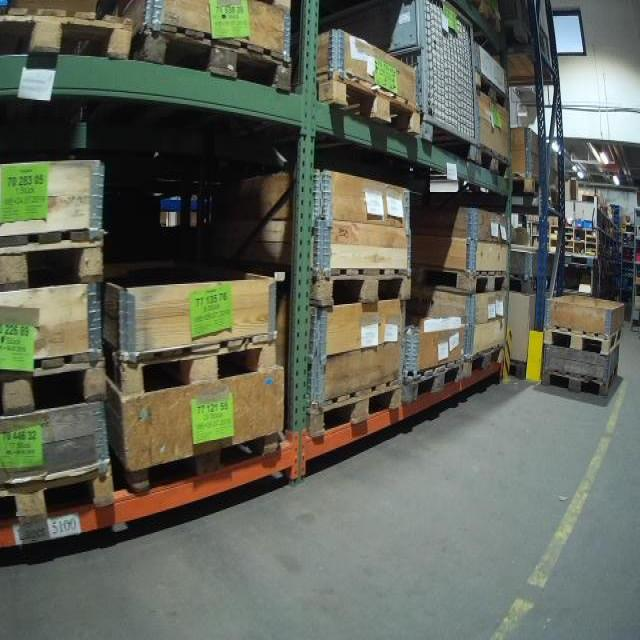pallet: (119, 423, 283, 497), (107, 332, 279, 400), (142, 21, 297, 96), (0, 454, 118, 527), (313, 64, 422, 143), (2, 7, 136, 68), (1, 350, 108, 419), (3, 227, 108, 296), (307, 371, 407, 442), (287, 269, 411, 312), (403, 352, 467, 406), (542, 365, 619, 399), (420, 267, 509, 296), (541, 323, 624, 354), (464, 339, 511, 384), (474, 69, 511, 111), (512, 175, 563, 204), (475, 141, 510, 182)
stillage: (318, 1, 481, 163), (492, 4, 562, 74)
